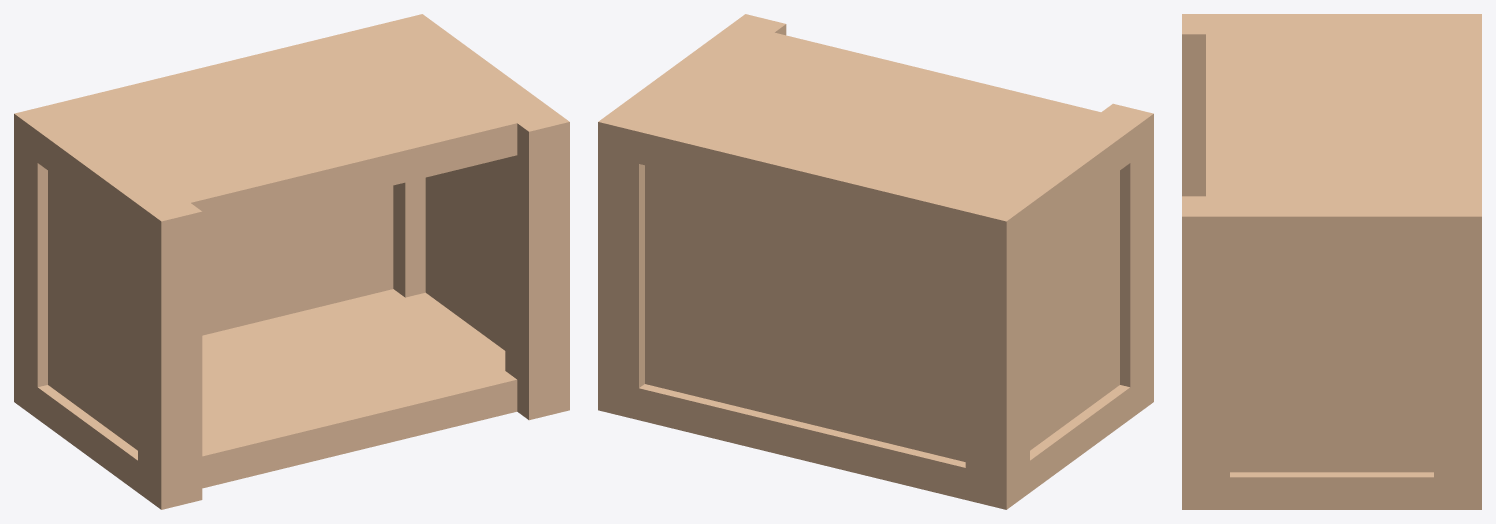
Rendered from bookcaseClosedModified.glb.
The picture shows the model from 3 angles, left to right: view 1: azimuth 30°, elevation 25°; view 2: azimuth 150°, elevation 25°; view 3: azimuth 270°, elevation 25°; orthographic projection.
Parts seen in each view (by area): view 1: bookcaseClosed(Clone).001; view 2: bookcaseClosed(Clone).001; view 3: bookcaseClosed(Clone).001.
Boxes of the visible parts, bbox=[...] form: bookcaseClosed(Clone).001: bbox=[14, 14, 569, 509]; bookcaseClosed(Clone).001: bbox=[598, 14, 1153, 509]; bookcaseClosed(Clone).001: bbox=[1182, 14, 1481, 509].
Size of the model in its own units: 0.4 by 0.27 by 0.25.
